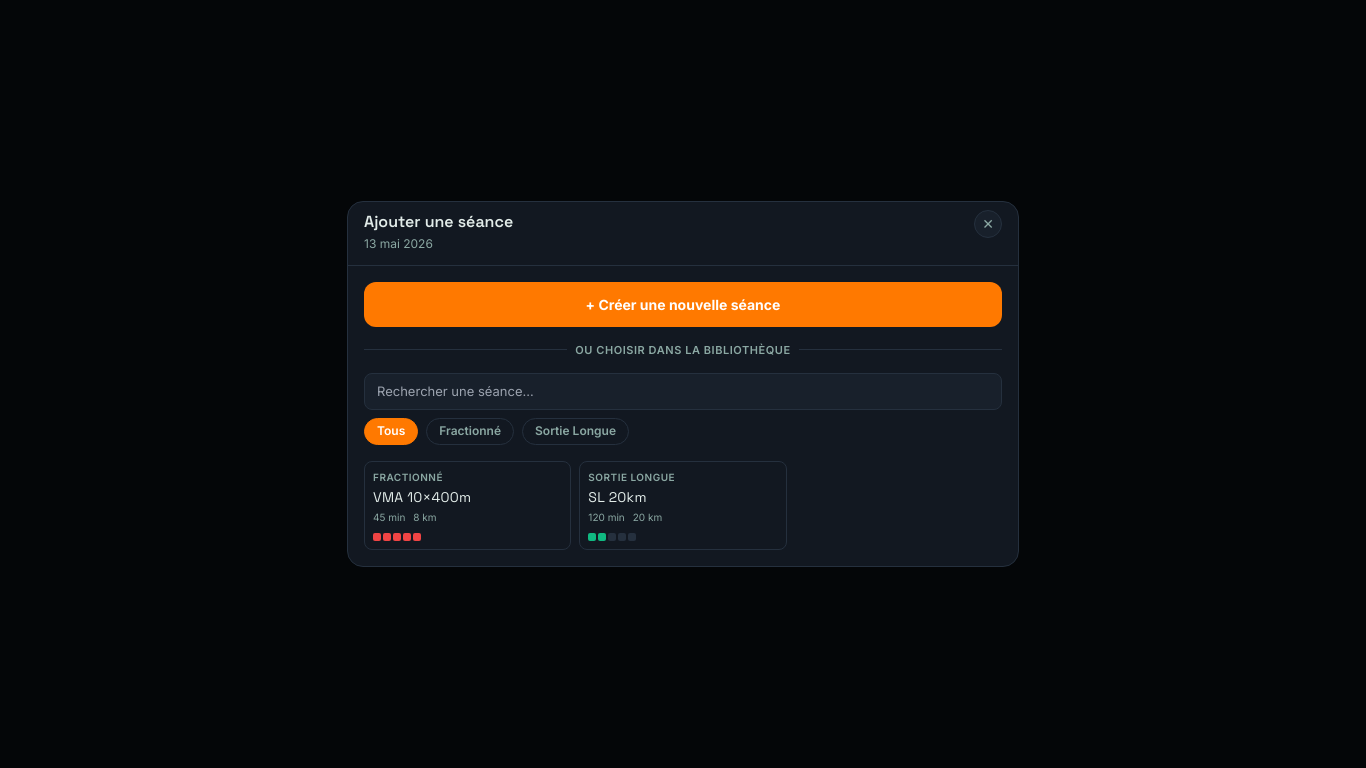
Test: <SessionAddSheet> › search filtre les templates par titre
Check: the heading "VMA 10×400m" is shown, box [373,488,471,506]
Type "sl" into the search field with placeholder "Rechercher une séance…".
click(683, 391); type("sl")  # box [364,373,1002,410]
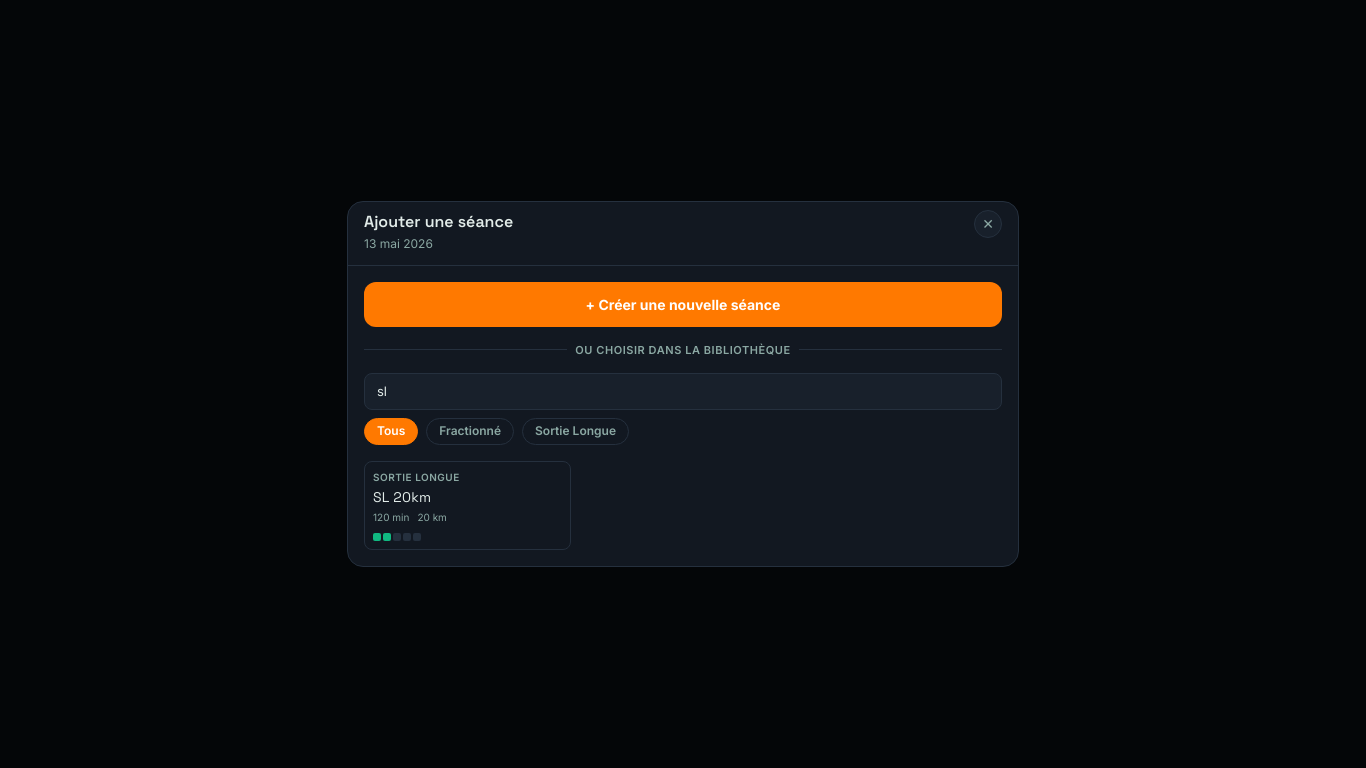
Check: the heading "SL 20km" is shown, box [373,488,431,506]
Check: the button "VMA 10×400m" is gone
